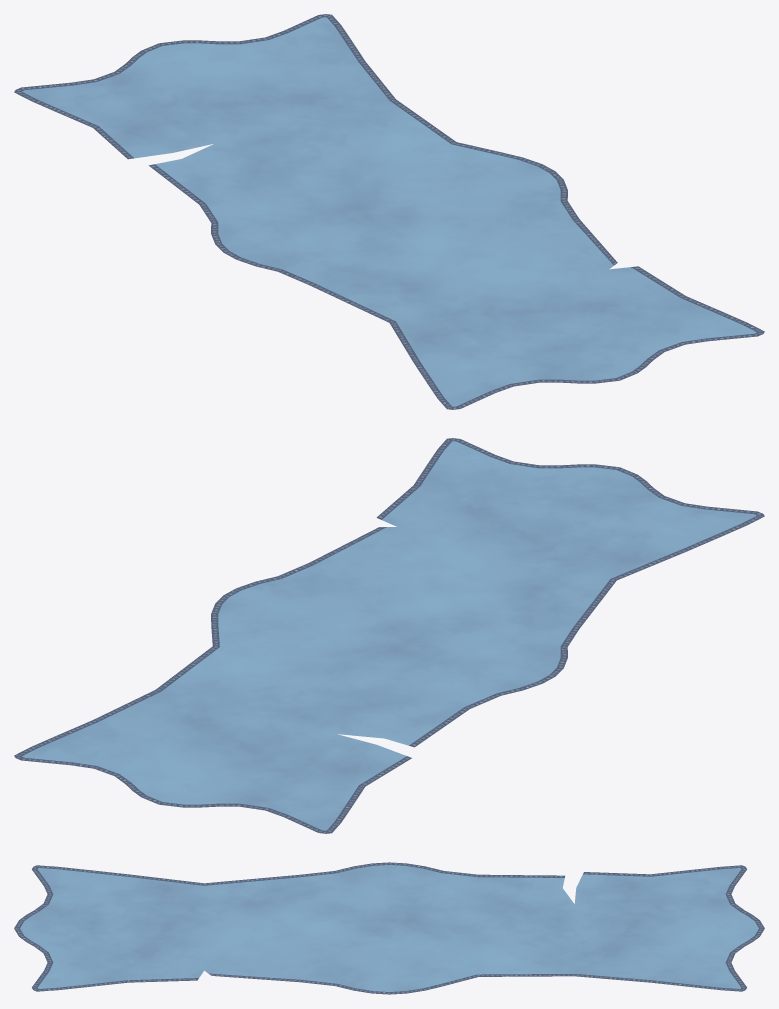
Rendered from Teppich_02.fbx.
The picture shows the model from 3 angles, top to bottom: view 1: azimuth 30°, elevation 25°; view 2: azimuth 150°, elevation 25°; view 3: azimuth 270°, elevation 25°; orthographic projection. The views are drawn at different scales.
Parts seen in each view (by area): view 1: Teppich_02; view 2: Teppich_02; view 3: Teppich_02.
Boxes of the visible parts, x1=… form: Teppich_02: x1=14, y1=14, x2=764, y2=409; Teppich_02: x1=14, y1=438, x2=764, y2=833; Teppich_02: x1=14, y1=862, x2=764, y2=994.
Bounding box in the file's own units: 2.19 × 3.43e-11 × 5.27.
